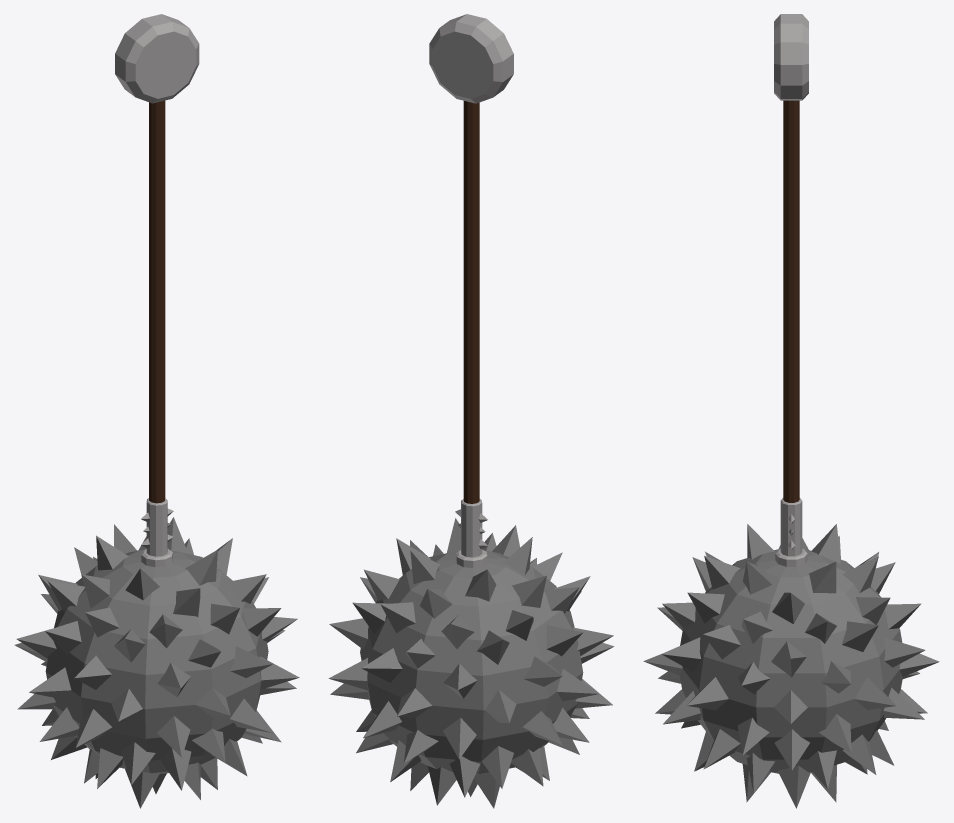
Rendered from StonePendulumTrap_7.fbx.
The picture shows the model from 3 angles, left to right: view 1: azimuth 30°, elevation 25°; view 2: azimuth 150°, elevation 25°; view 3: azimuth 270°, elevation 25°; orthographic projection.
Parts seen in each view (by area): view 1: StonePendulumTrap_7; view 2: StonePendulumTrap_7; view 3: StonePendulumTrap_7.
Part boxes in pixels (bbox=[...]): StonePendulumTrap_7: bbox=[14, 14, 299, 808]; StonePendulumTrap_7: bbox=[328, 14, 614, 808]; StonePendulumTrap_7: bbox=[643, 14, 939, 808].
Bounding box in the file's own units: 132 × 381 × 132.
